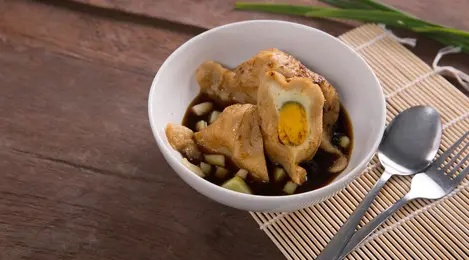pempek: (166, 49, 348, 187)
